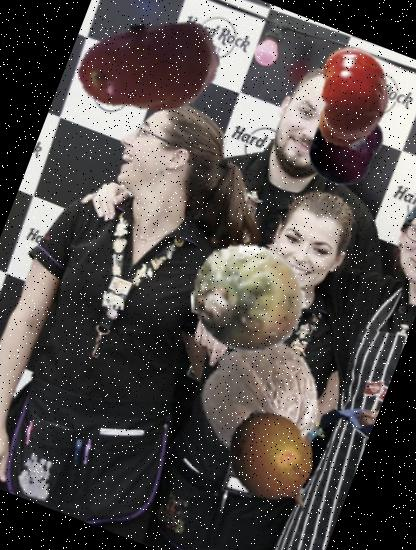Cactus: (174, 224, 321, 371)
Granadilla: (204, 392, 346, 534)
Plum: (295, 96, 397, 198)
Tomato: (56, 0, 241, 161), (284, 33, 414, 163)
Walnut: (182, 322, 341, 480)
